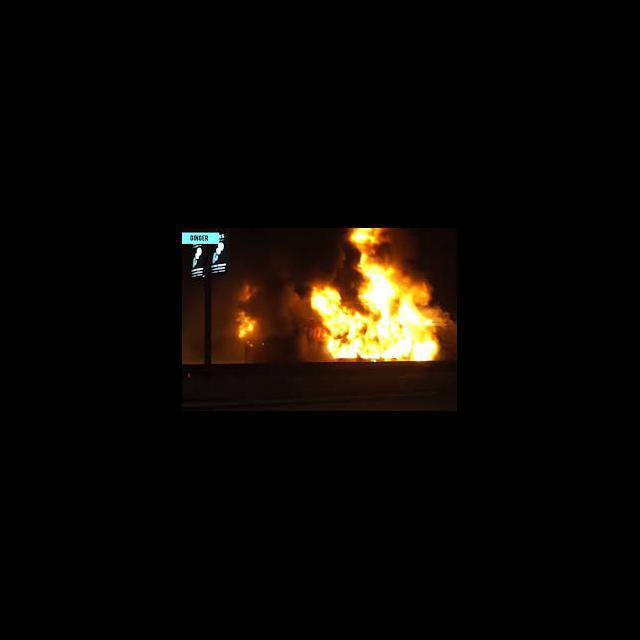Fire: (312, 230, 444, 362), (232, 308, 260, 340), (234, 280, 259, 302)
